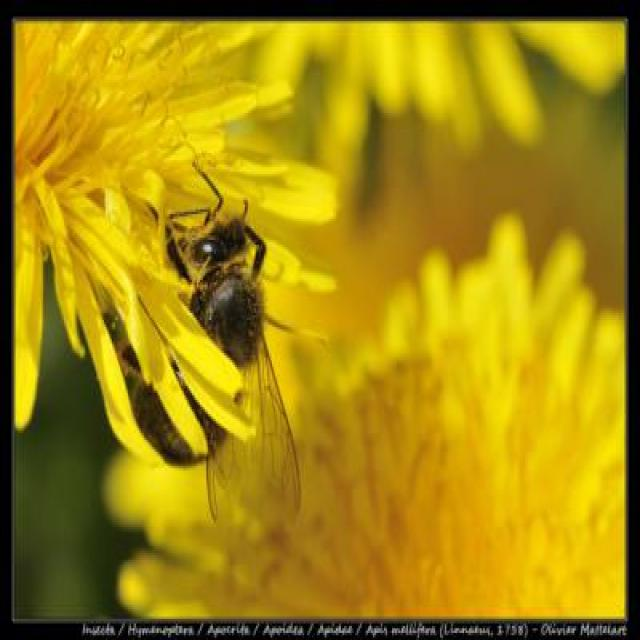antennae: (187, 159, 222, 220), (167, 202, 213, 226)
body: (102, 207, 263, 468)
insect: (97, 158, 303, 532)
legs: (144, 200, 204, 286), (241, 211, 268, 284)
mouthpart: (170, 223, 208, 261)
wings: (202, 311, 256, 525), (246, 314, 300, 518)
